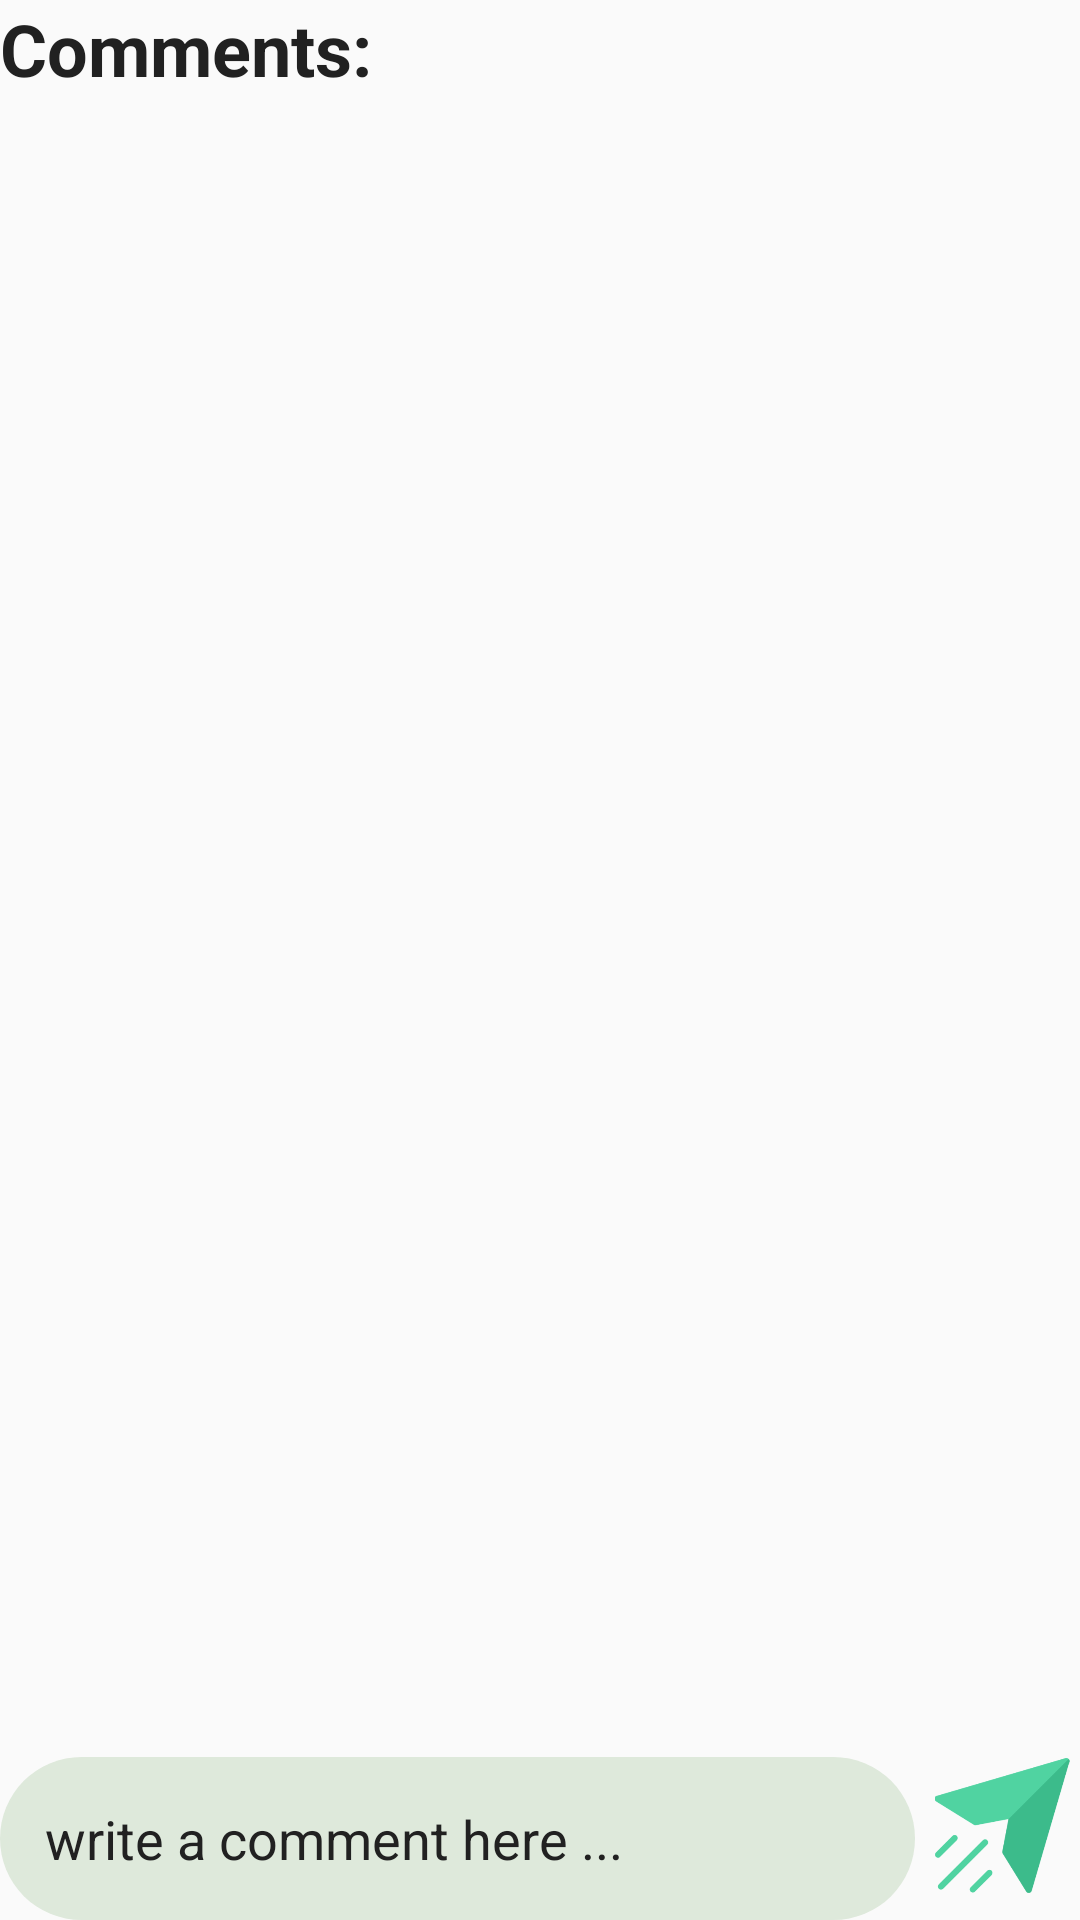

Screen size 1080w x 1920h. Icon name, then its center in pixels as [x,y]:
send: [1002,1825]
